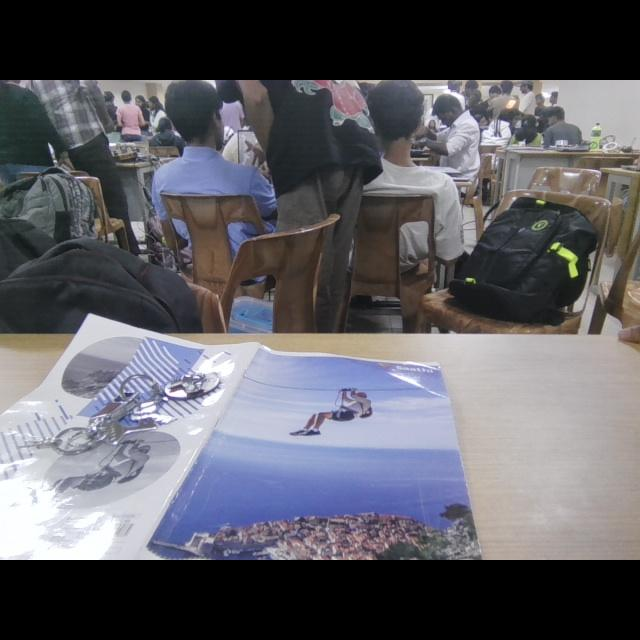keys: (57, 357, 223, 471)
